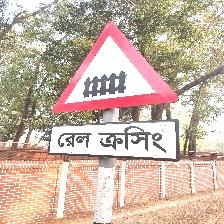Rail-crossing: (48, 21, 181, 160)
